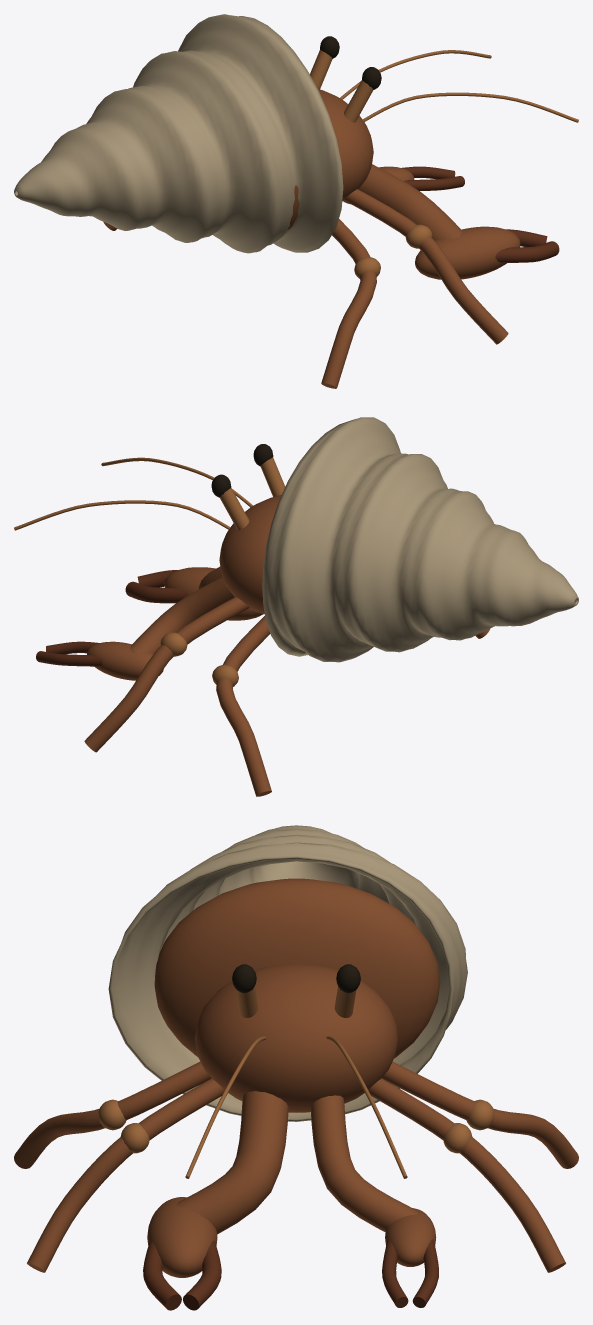
Rendered from A-NEW-20261026-HERMIT-CRAB-001_LOD0_R5.glb.
The picture shows the model from 3 angles, top to bottom: view 1: azimuth 30°, elevation 25°; view 2: azimuth 150°, elevation 25°; view 3: azimuth 270°, elevation 25°; orthographic projection. The views are drawn at different scales.
Visible parts, largest first — view 1: occupied spiral shell hollow wall and lip, walking leg -1 0, claw palm -1, claw arm -1, walking leg -1 1, front shield, pincer finger -1 -1, antenna -1, pincer finger 1 -1, eye stalk -1, antenna 1, eye stalk 1 (+1 smaller); view 2: occupied spiral shell hollow wall and lip, front shield, walking leg 1 0, walking leg 1 1, claw arm 1, claw palm 1, claw palm -1, pincer finger -1 1, antenna 1, pincer finger 1 1, eye stalk 1, eye stalk -1 (+2 smaller); view 3: retracted abdomen inside aperture, occupied spiral shell hollow wall and lip, front shield, claw arm -1, claw arm 1, walking leg -1 0, walking leg 1 0, walking leg -1 1, walking leg 1 1, claw palm -1, claw palm 1, pincer finger -1 -1 (+9 smaller).
Part boxes in pixels (<box>): occupied spiral shell hollow wall and lip: <box>14,14,343,253</box>; walking leg -1 0: <box>344,189,508,344</box>; claw palm -1: <box>415,226,520,279</box>; claw arm -1: <box>358,164,461,240</box>; walking leg -1 1: <box>321,219,376,388</box>; front shield: <box>318,89,373,200</box>; pincer finger -1 -1: <box>495,241,559,262</box>; antenna -1: <box>362,92,578,122</box>; pincer finger 1 -1: <box>404,176,464,190</box>; eye stalk -1: <box>344,80,373,122</box>; antenna 1: <box>340,50,491,99</box>; eye stalk 1: <box>310,49,332,89</box>; occupied spiral shell hollow wall and lip: <box>262,417,578,662</box>; front shield: <box>219,495,281,614</box>; walking leg 1 0: <box>84,597,249,752</box>; walking leg 1 1: <box>216,616,271,796</box>; claw arm 1: <box>130,577,234,653</box>; claw palm 1: <box>87,641,163,680</box>; claw palm -1: <box>164,567,263,620</box>; pincer finger -1 1: <box>125,581,188,603</box>; antenna 1: <box>14,500,230,530</box>; pincer finger 1 1: <box>36,651,102,666</box>; eye stalk 1: <box>219,488,249,530</box>; eye stalk -1: <box>260,457,285,496</box>; retracted abdomen inside aperture: <box>154,878,440,1058</box>; occupied spiral shell hollow wall and lip: <box>108,825,467,1121</box>; front shield: <box>195,964,397,1112</box>; claw arm -1: <box>176,1091,288,1234</box>; claw arm 1: <box>310,1095,418,1232</box>; walking leg -1 0: <box>27,1078,224,1272</box>; walking leg 1 0: <box>368,1078,565,1272</box>; walking leg -1 1: <box>14,1061,210,1168</box>; walking leg 1 1: <box>382,1061,578,1168</box>; claw palm -1: <box>147,1197,217,1277</box>; claw palm 1: <box>385,1208,436,1266</box>; pincer finger -1 -1: <box>143,1241,181,1310</box>.
Size of the model in its own units: 0.2994 by 0.1535 by 0.2278.
